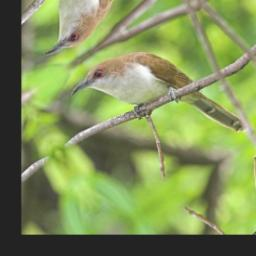Cuckoo: (65, 14, 248, 200)
